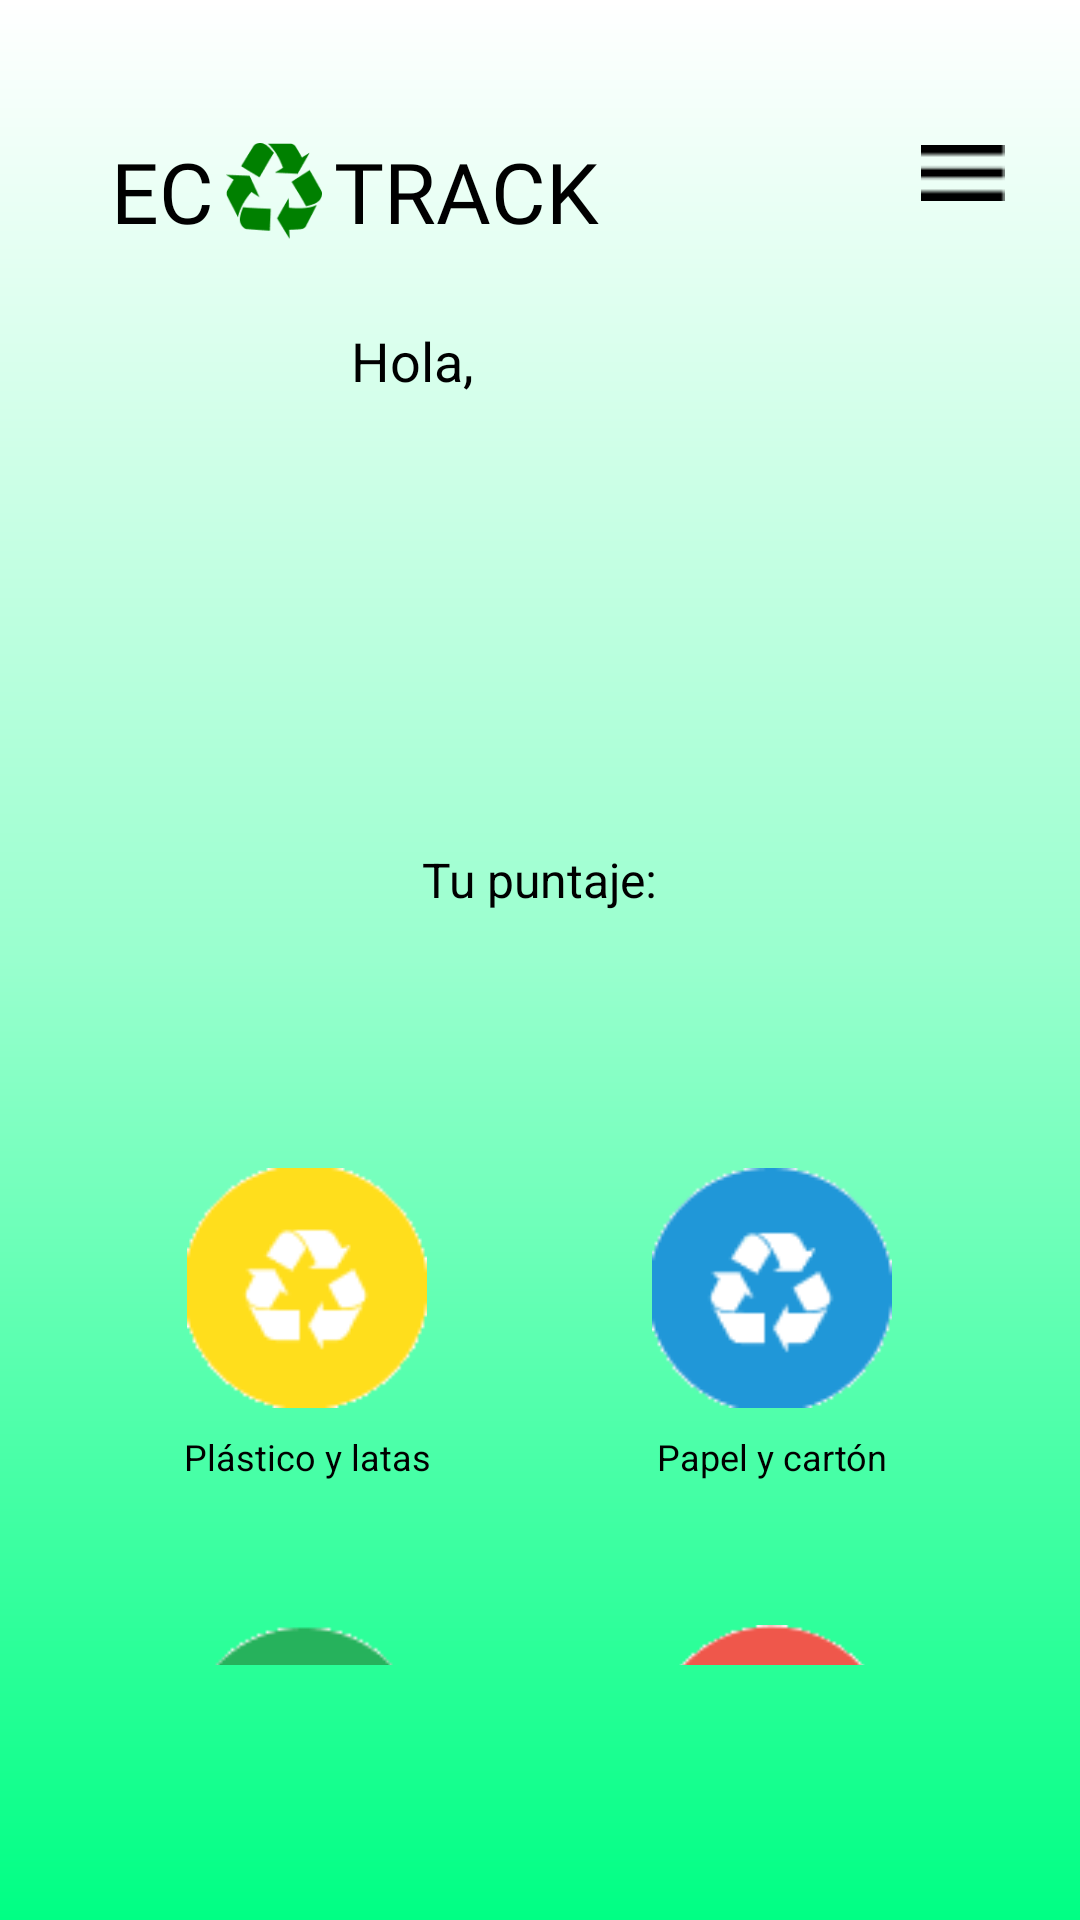

Point at icon controls on the screen. Image size 1080x1920, points as [x,y].
Menú: [963,173]
